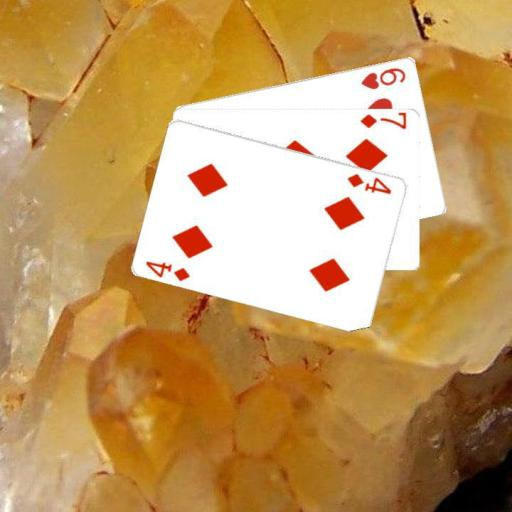4D: (344, 170, 393, 196), (143, 257, 192, 283)
6H: (359, 64, 408, 90)
7D: (357, 111, 408, 130)
